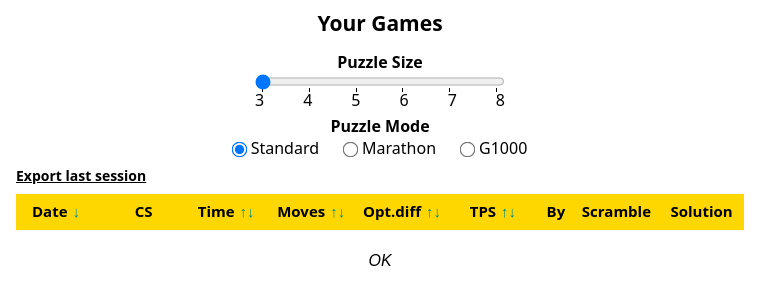
Scenario: GamesTable › sorting › toggles the real id sort direction on repeated desktop clicks
Expected: the element with class "buttons" is shown, [330,245,430,277]
Click the text "↓": (76, 211) [72,201,80,221]
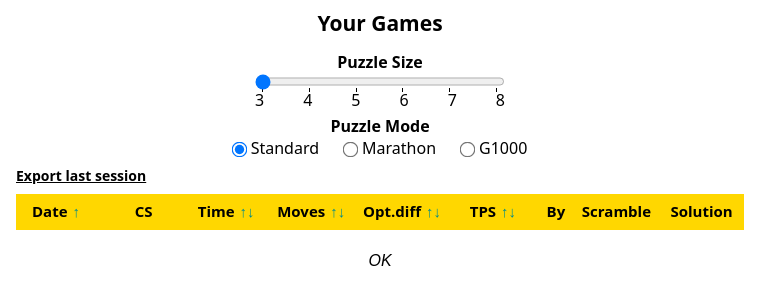
Result: the text "↑" is shown
Click the text "↑": (76, 211) [72,201,80,221]
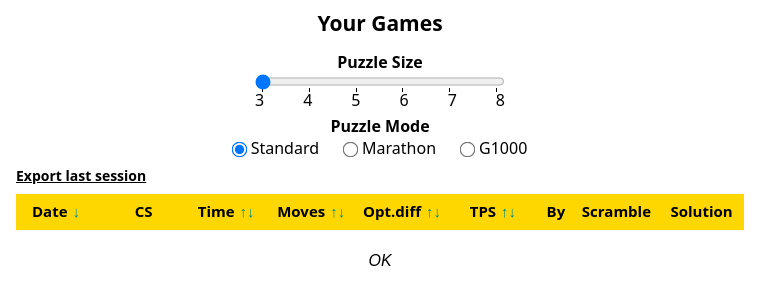
Result: the text "↓" is shown at [72,201,80,221]
